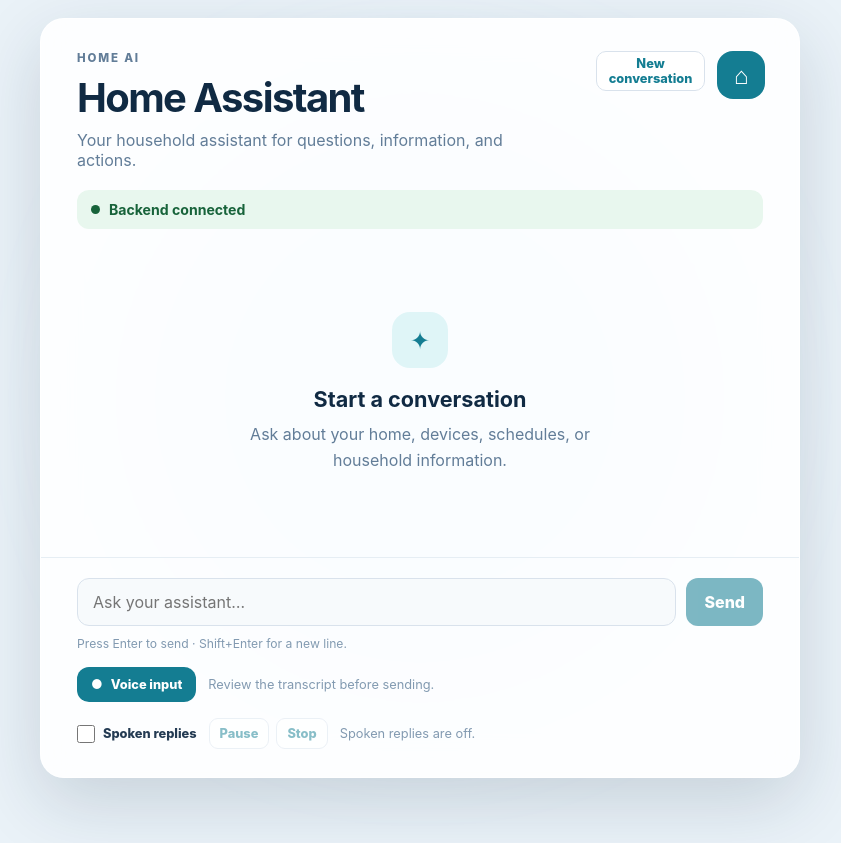
App voice output integration › honours a persisted disabled preference
Type "Reply quietly" into the text box named "Message" at (377, 602), box [77,578,676,626]
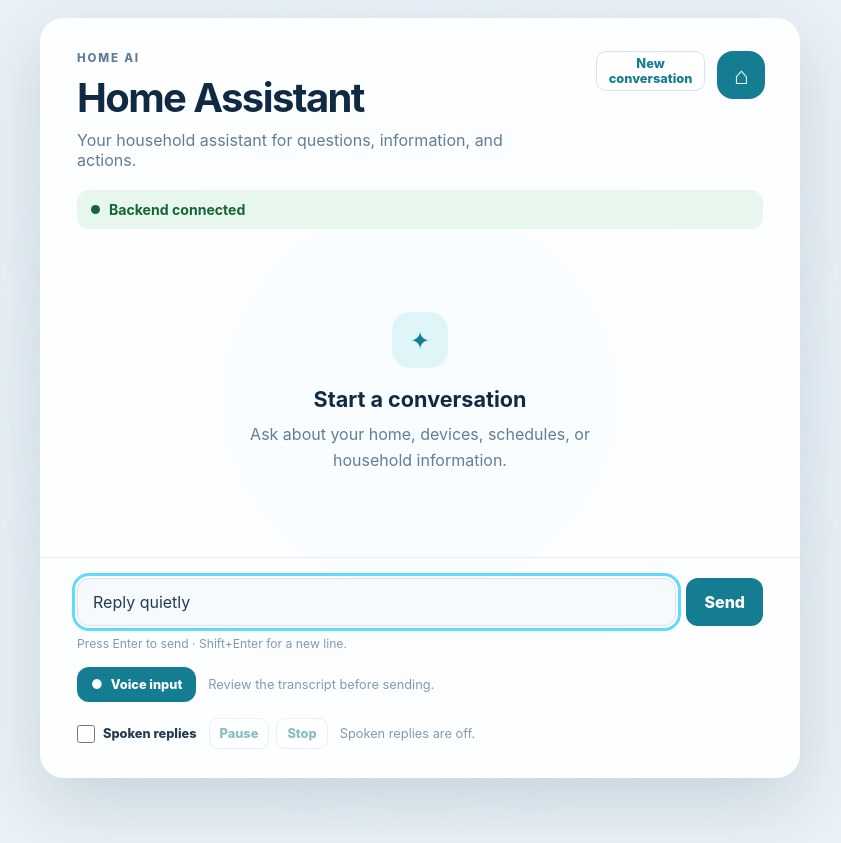
Click the button with aria-label "Send message" at (725, 602), box [686,578,763,626]
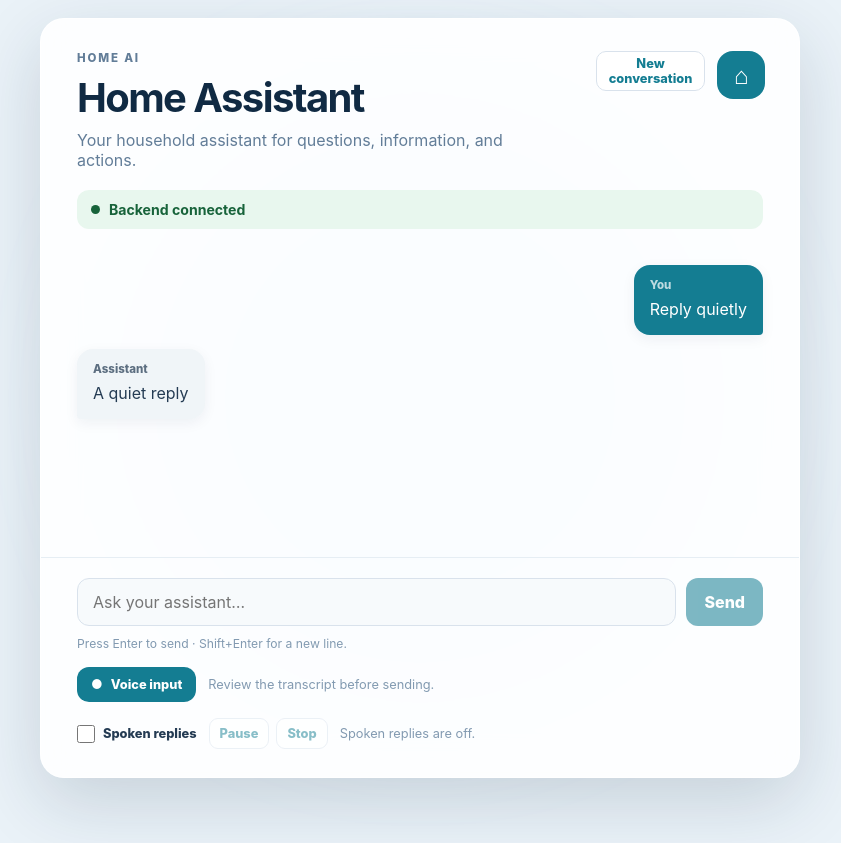
expect the checkbox labelled "Spoken replies" is not checked: met, box [77,724,95,742]
expect the text "A quiet reply" is shown: met, box [93,381,189,406]
